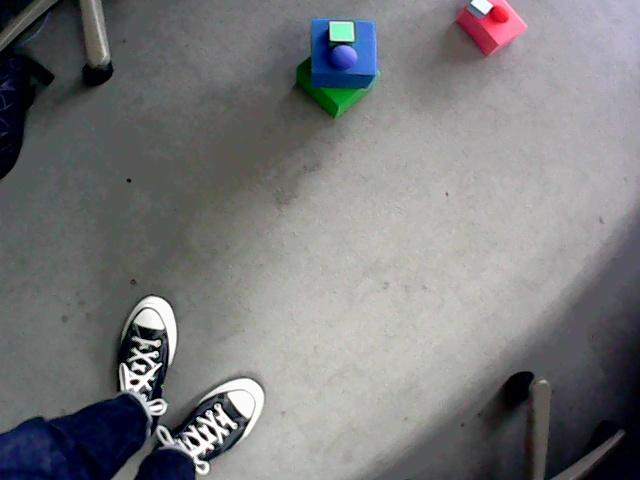blue_block: (311, 18, 377, 88), (467, 0, 493, 19)
red_block: (456, 0, 526, 55)
